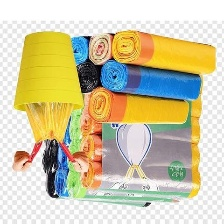plastic_bag: (113, 27, 218, 80), (78, 106, 208, 146), (79, 130, 202, 172), (97, 58, 204, 105), (82, 158, 203, 198), (63, 167, 185, 205), (50, 163, 152, 208), (89, 89, 191, 129), (20, 98, 76, 144), (86, 30, 120, 70), (70, 59, 101, 96), (62, 140, 90, 173), (65, 32, 89, 67), (38, 142, 63, 175), (41, 169, 64, 204), (69, 111, 89, 144)
